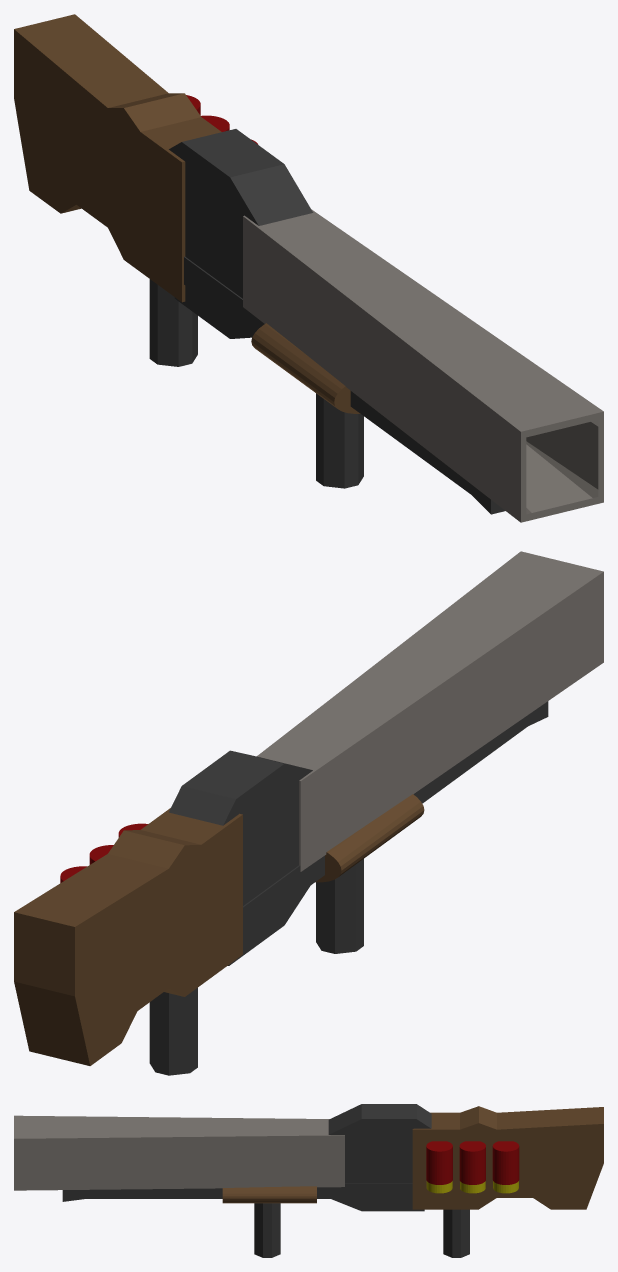
The model's file is Weapon01-Sniper.fbx.
The picture shows the model from 3 angles, top to bottom: view 1: azimuth 30°, elevation 25°; view 2: azimuth 150°, elevation 25°; view 3: azimuth 270°, elevation 25°; orthographic projection. The views are drawn at different scales.
Parts seen in each view (by area): view 1: Cylinder; view 2: Cylinder; view 3: Cylinder.
Boxes of the visible parts, bbox=[...] form: Cylinder: bbox=[14, 14, 603, 522]; Cylinder: bbox=[14, 551, 603, 1075]; Cylinder: bbox=[14, 1104, 603, 1257].
Size of the model in its own units: 33.36 by 70.24 by 267.
